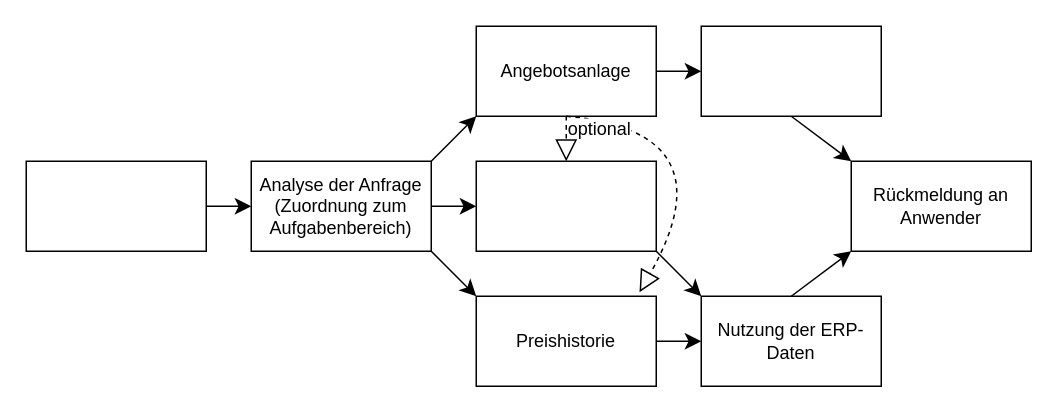
The diagram is 1058 pixels wide and 413 high, and some of its shapes have lost their labels. The centre of each missing label's shape, as x and y in pixels:
"Artikel identifikation" goes at pixel 565 205.
"Erstellung im ERP" goes at pixel 790 70.
"Nutzeranfrage" goes at pixel 115 205.
